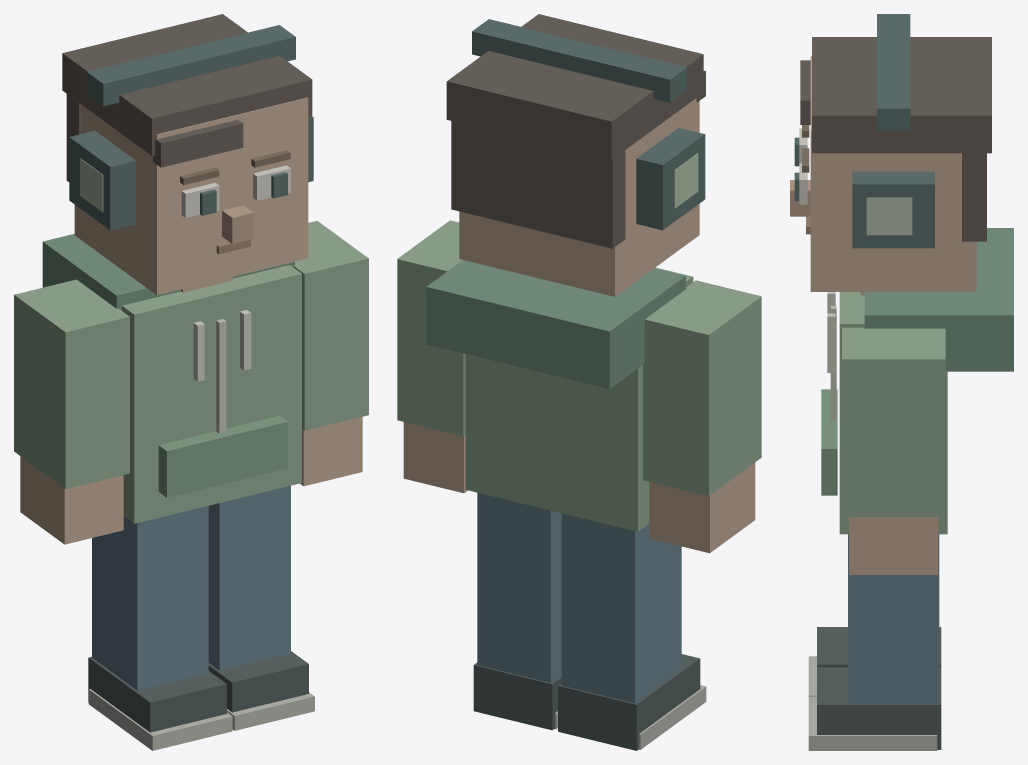
Rendered from character_casual.glb.
The picture shows the model from 3 angles, left to right: view 1: azimuth 30°, elevation 25°; view 2: azimuth 150°, elevation 25°; view 3: azimuth 270°, elevation 25°; orthographic projection. The views are drawn at different scales.
Visible parts, largest first — view 1: character_casual; view 2: character_casual; view 3: character_casual.
Boxes of the visible parts, x1,y1,x2,y2 form: character_casual: (14, 14, 368, 750); character_casual: (397, 14, 761, 750); character_casual: (790, 14, 1013, 750).
Size of the model in its own units: 1.7 by 3.46 by 1.08.
